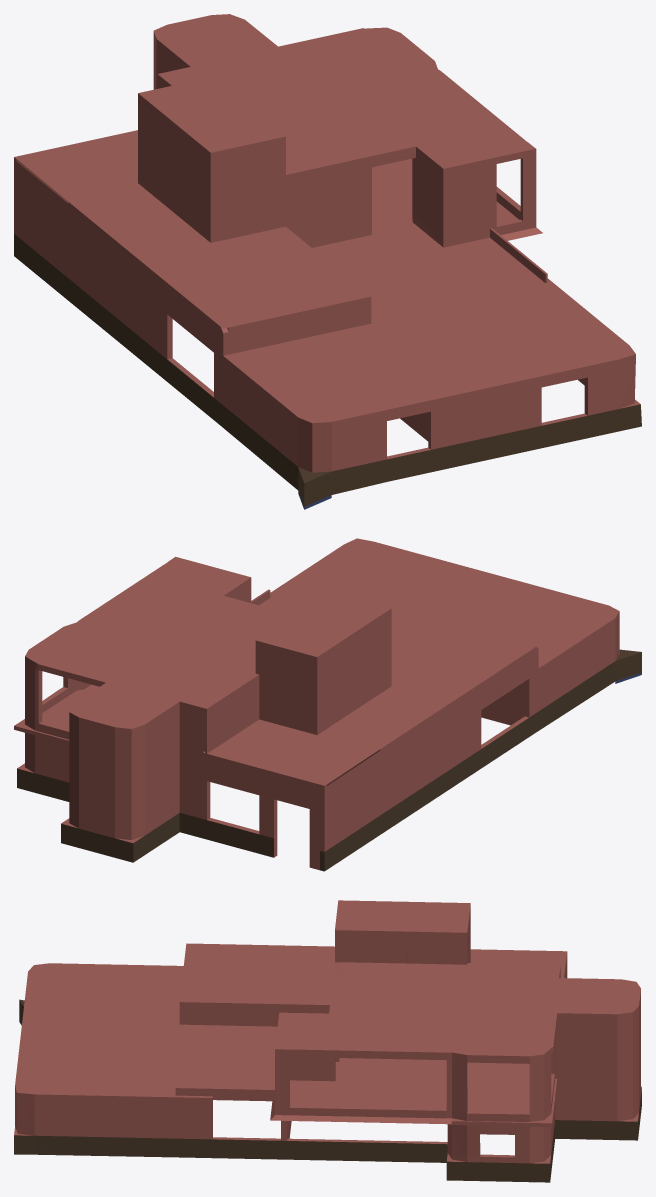
3 views of the same model, one above another, from view 1: azimuth 30°, elevation 25°; view 2: azimuth 150°, elevation 25°; view 3: azimuth 270°, elevation 25° (orthographic). The views are drawn at different scales.
Visible parts, largest first — view 1: Cube; view 2: Cube; view 3: Cube.
Boxes of the visible parts, x1,y1,x2,y2 form: Cube: (14,14,641,509); Cube: (14,538,641,871); Cube: (14,900,641,1182).
Size of the model in its own units: 1886 by 858 by 3031.
